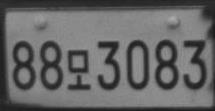0: (125, 39, 150, 91)
3: (182, 39, 207, 91), (96, 39, 120, 91)
8: (11, 39, 37, 91), (153, 38, 179, 90), (38, 39, 63, 90)
모: (67, 48, 90, 90)
